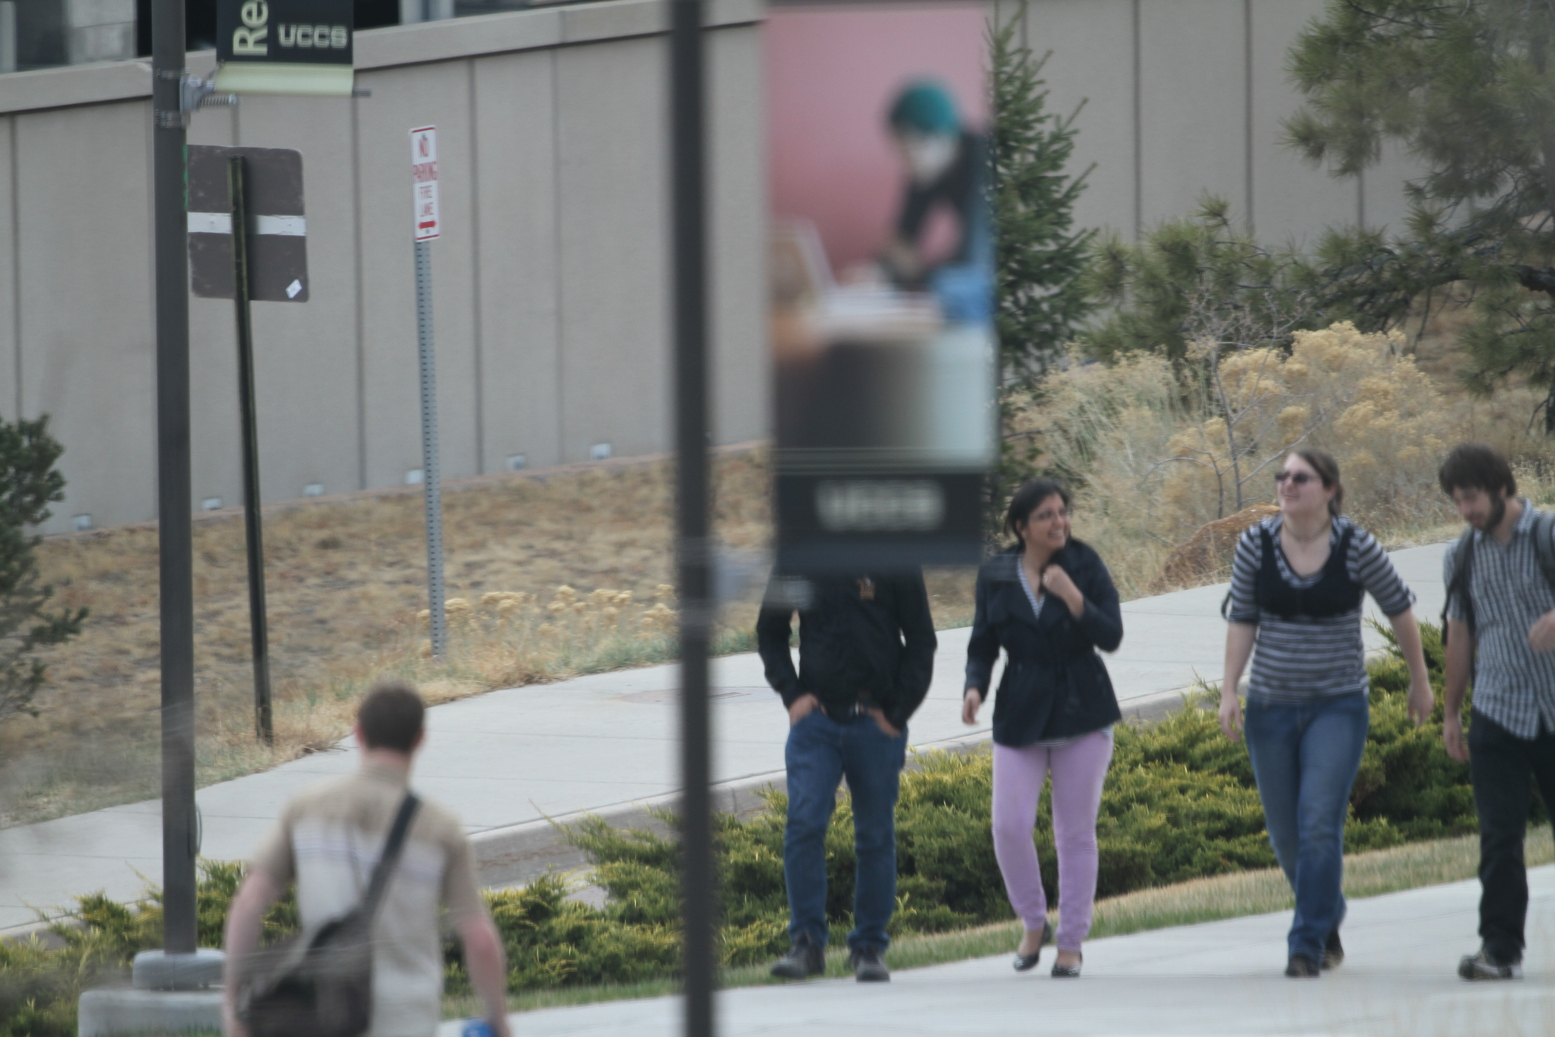face: (1448, 463, 1504, 528), (1277, 462, 1323, 516), (1019, 498, 1068, 547)
